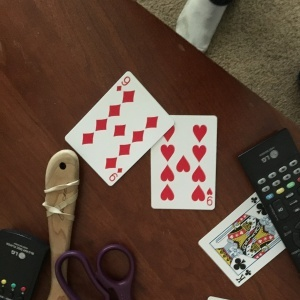card: (65, 69, 174, 188), (198, 210, 293, 287), (150, 115, 218, 212)
